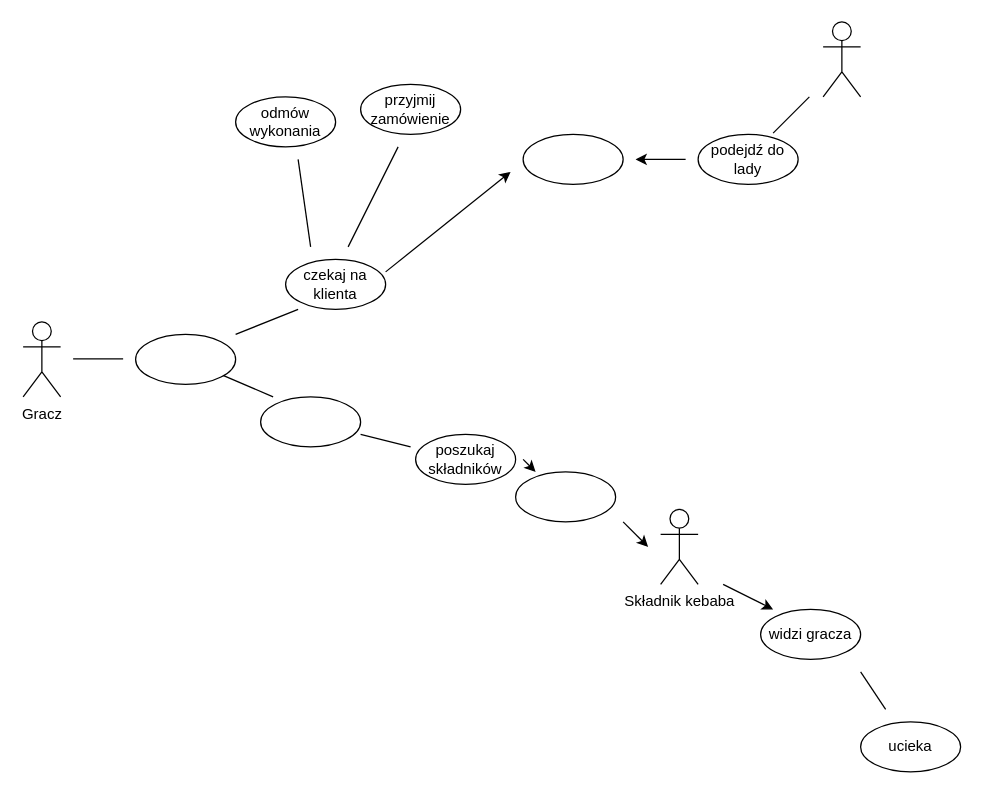
Image size: 983x794. Some labels were removed from this diagram. Here are the shapes that lost their labels. From the top down, the centre of each, then its label:
the point at 841,59: Klient
the point at 572,158: złóż zamówienie
the point at 185,358: włącz rozgrykę
the point at 310,421: dokonaj zapasów
the point at 565,496: złap składnik
